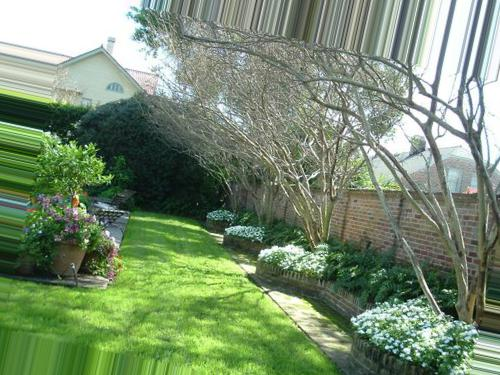patch: (287, 300, 295, 302)
